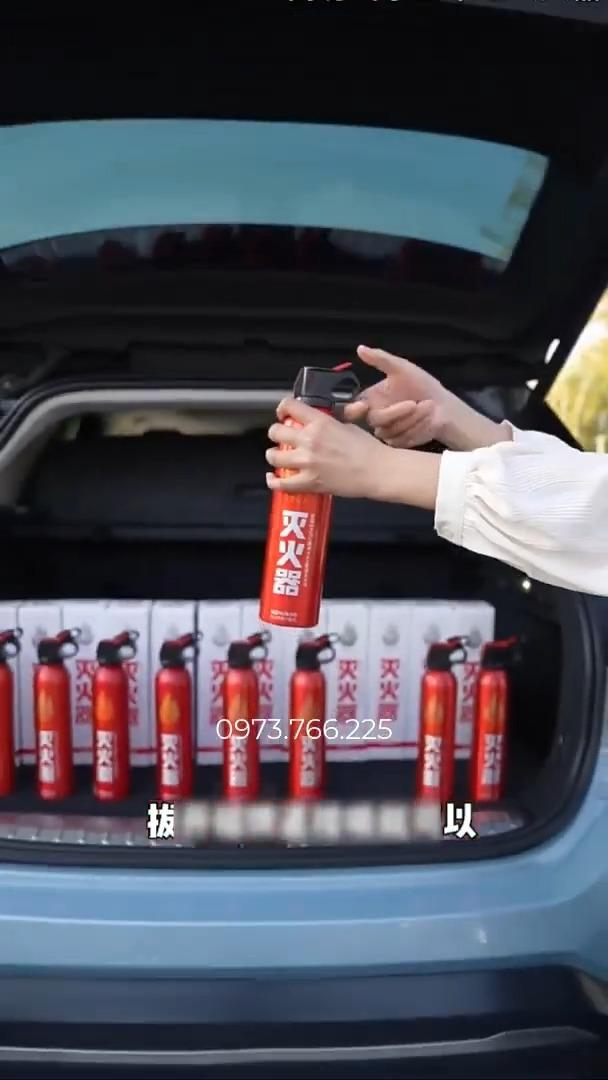FireExtinguisher: (251, 346, 380, 639), (469, 615, 546, 811), (88, 615, 149, 810), (155, 620, 215, 817), (216, 638, 280, 812), (27, 620, 85, 810), (411, 633, 472, 811), (288, 630, 343, 814), (0, 623, 19, 816)
